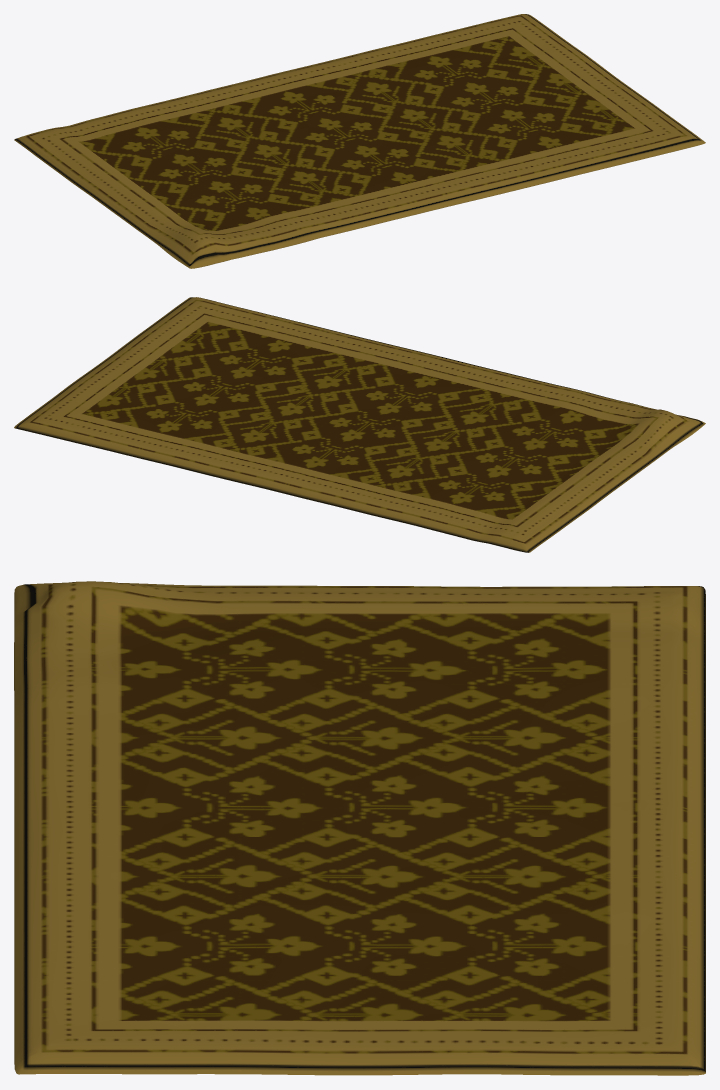
File: MSG_Lr_carpet_1.FBX
3 renders of one model, top to bottom at view 1: azimuth 30°, elevation 25°; view 2: azimuth 150°, elevation 25°; view 3: azimuth 270°, elevation 25°, orthographic. The views are drawn at different scales.
Visible parts, largest first — view 1: Box060; view 2: Box060; view 3: Box060.
Boxes of the visible parts, x1,y1,x2,y2 form: Box060: [14, 14, 705, 268]; Box060: [14, 297, 705, 552]; Box060: [14, 581, 705, 1075].
Size of the model in its own units: 901 by 23.91 by 538.
